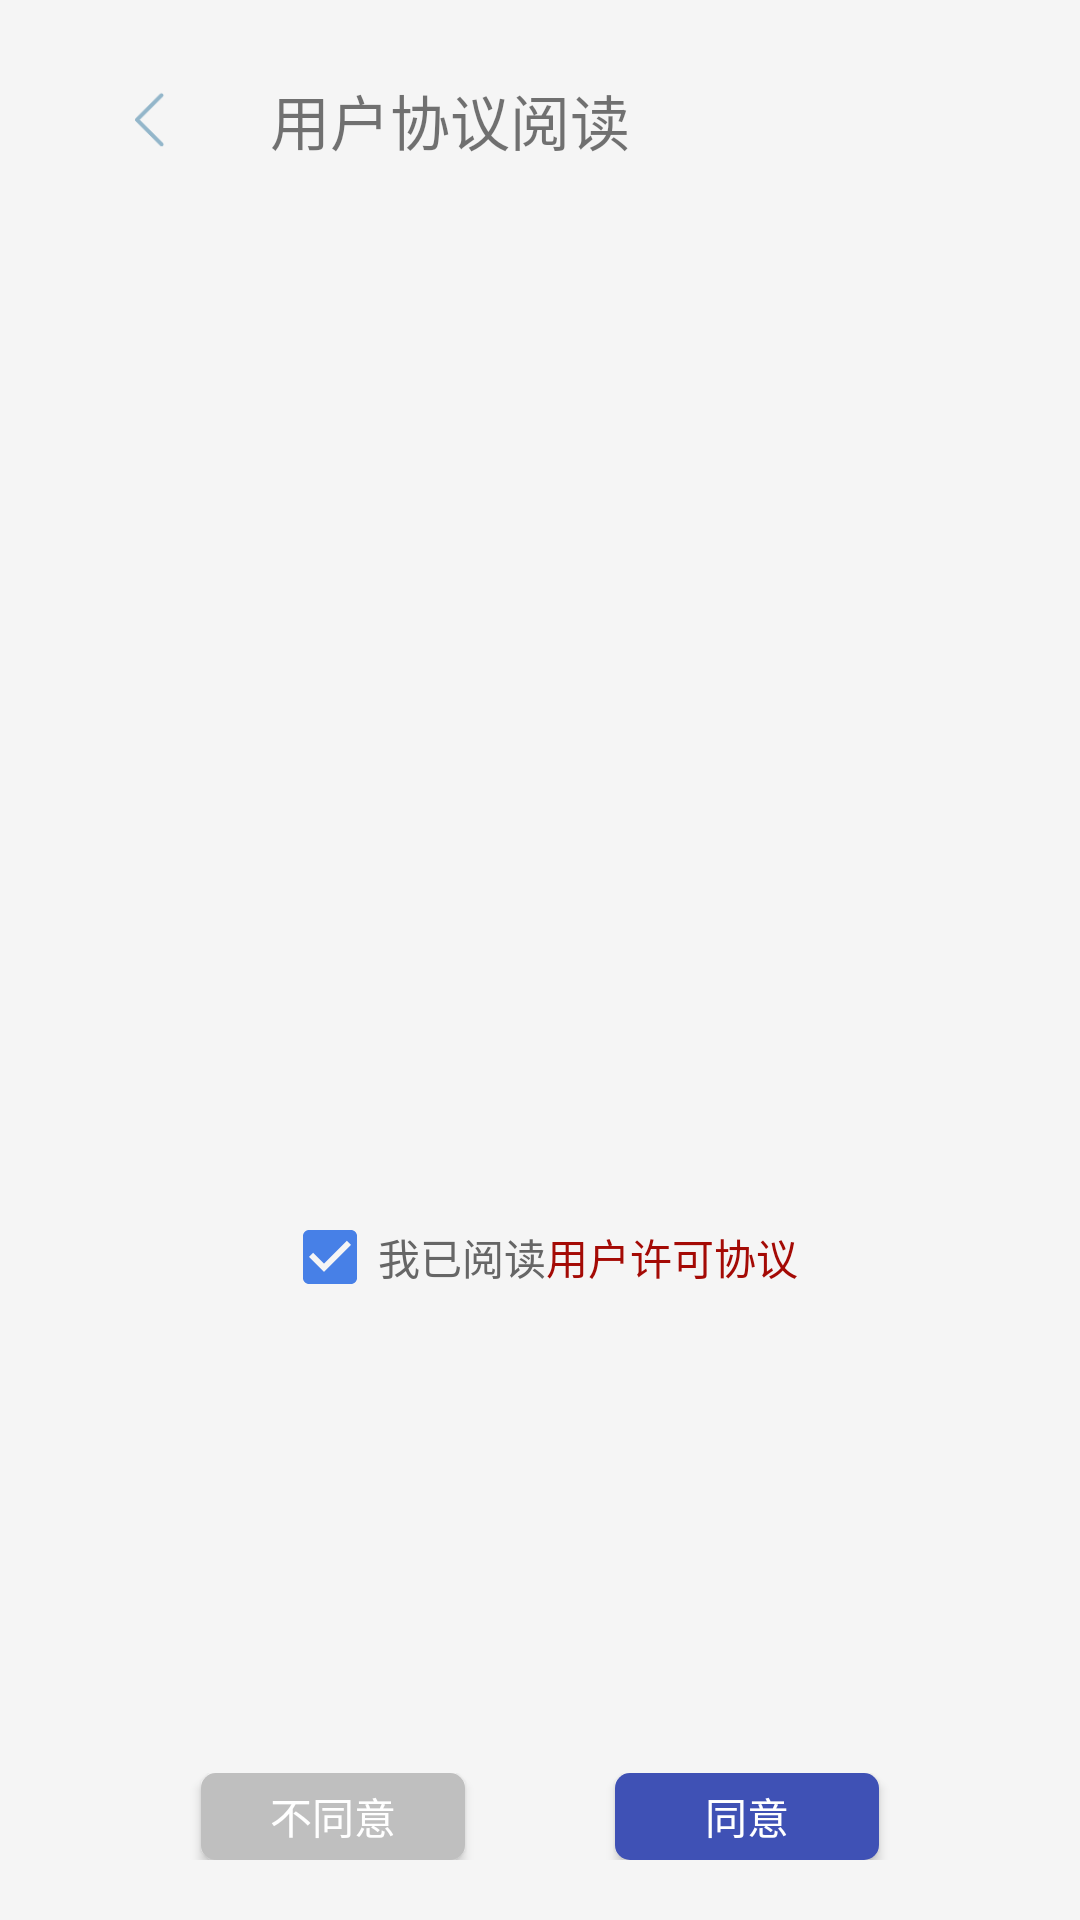

Named icons in this screenshot (1080w x 1920h) and their bounding boxes, rect(x1, y1, x2, y2):
back: rect(135, 93, 164, 146)
